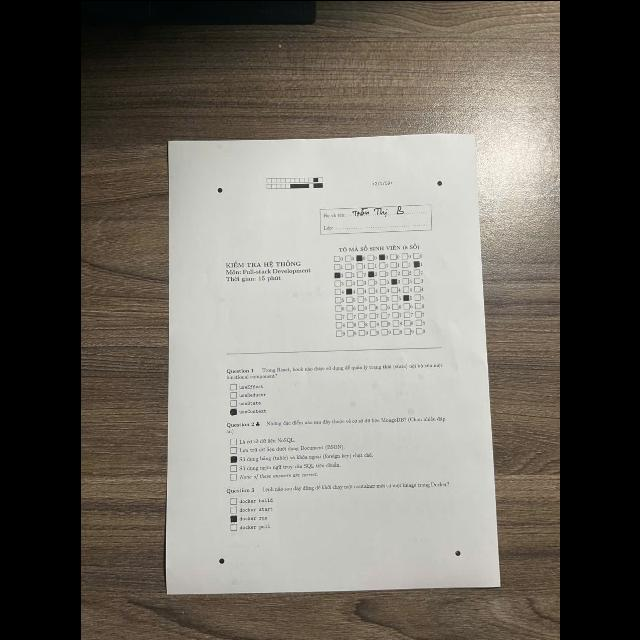Markers: (216, 186, 222, 192), (436, 180, 442, 186), (454, 550, 460, 556), (218, 558, 224, 564)
